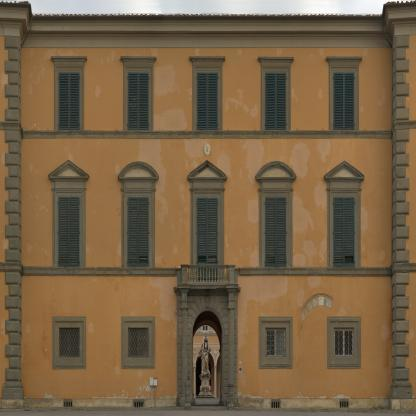Balcony: (180, 264, 236, 284)
Building Outline: (0, 0, 416, 411)
Cornice: (48, 159, 90, 183), (186, 159, 228, 183), (324, 159, 365, 183), (255, 160, 297, 183), (118, 160, 159, 183), (190, 295, 224, 315), (51, 56, 87, 66), (326, 56, 362, 66), (120, 56, 156, 66), (189, 56, 225, 66), (258, 56, 294, 66)
Door: (192, 311, 222, 406), (197, 197, 217, 282)
Facade: (0, 0, 416, 409)
Floor: (1, 157, 416, 284)
Floor Slab: (1, 151, 416, 158), (1, 284, 416, 291)
Ground Floor: (1, 291, 416, 408)
Molding: (0, 4, 416, 48)
Top Floor: (1, 20, 416, 151)
Window: (128, 197, 149, 266), (58, 197, 79, 266), (334, 197, 354, 266), (266, 197, 286, 266), (128, 73, 149, 129), (197, 73, 218, 129), (265, 73, 286, 129), (59, 73, 79, 129), (334, 73, 354, 129), (334, 328, 354, 358), (59, 328, 79, 358), (128, 328, 148, 358), (266, 328, 286, 358)
